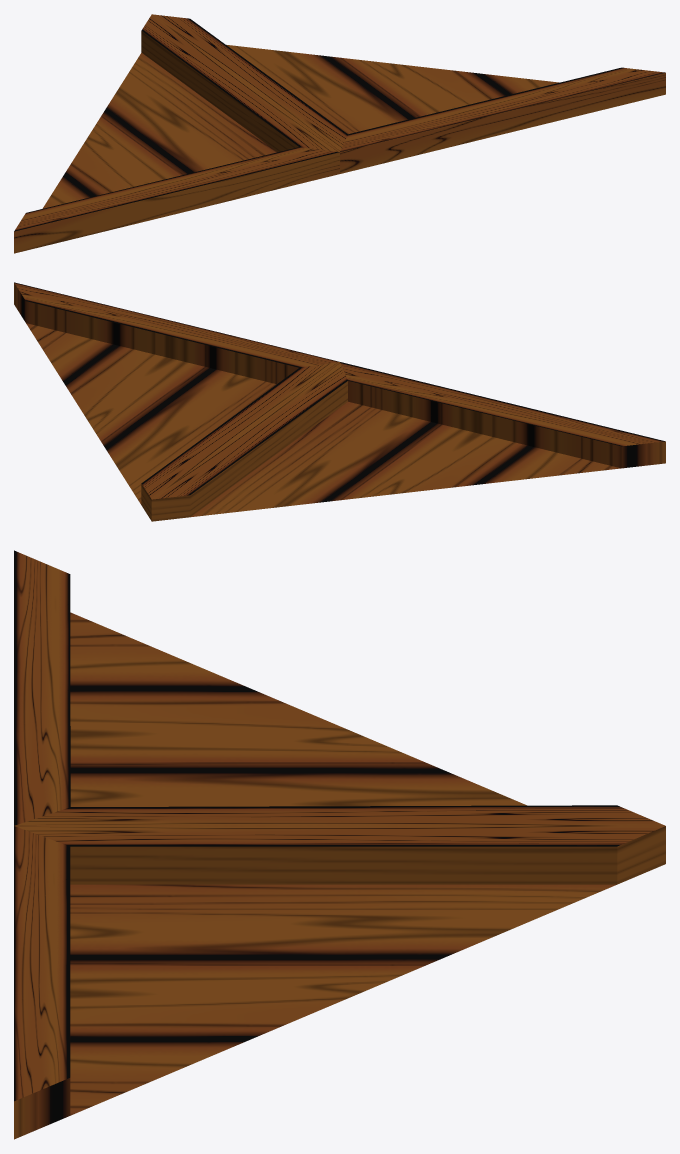
The model's file is MTile_17b.fbx.
The picture shows the model from 3 angles, top to bottom: view 1: azimuth 30°, elevation 25°; view 2: azimuth 150°, elevation 25°; view 3: azimuth 270°, elevation 25°; orthographic projection. The views are drawn at different scales.
Parts seen in each view (by area): view 1: MTile_17b; view 2: MTile_17b; view 3: MTile_17b.
Boxes of the visible parts, x1,y1,x2,y2 form: MTile_17b: [14, 14, 665, 253]; MTile_17b: [14, 282, 665, 521]; MTile_17b: [14, 550, 665, 1139].
Bounding box in the file's own units: 255 × 8.21 × 127.
